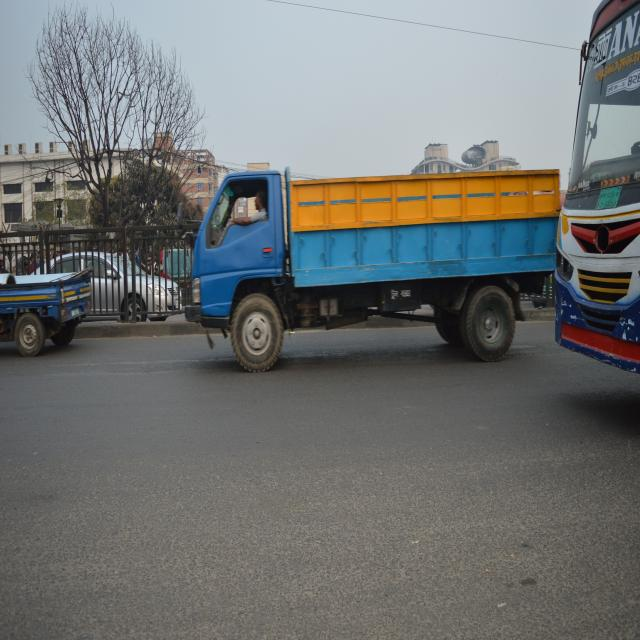bus: (555, 0, 640, 374)
car: (84, 246, 180, 336)
pickup-van: (0, 262, 91, 363)
truck: (186, 162, 565, 378)
